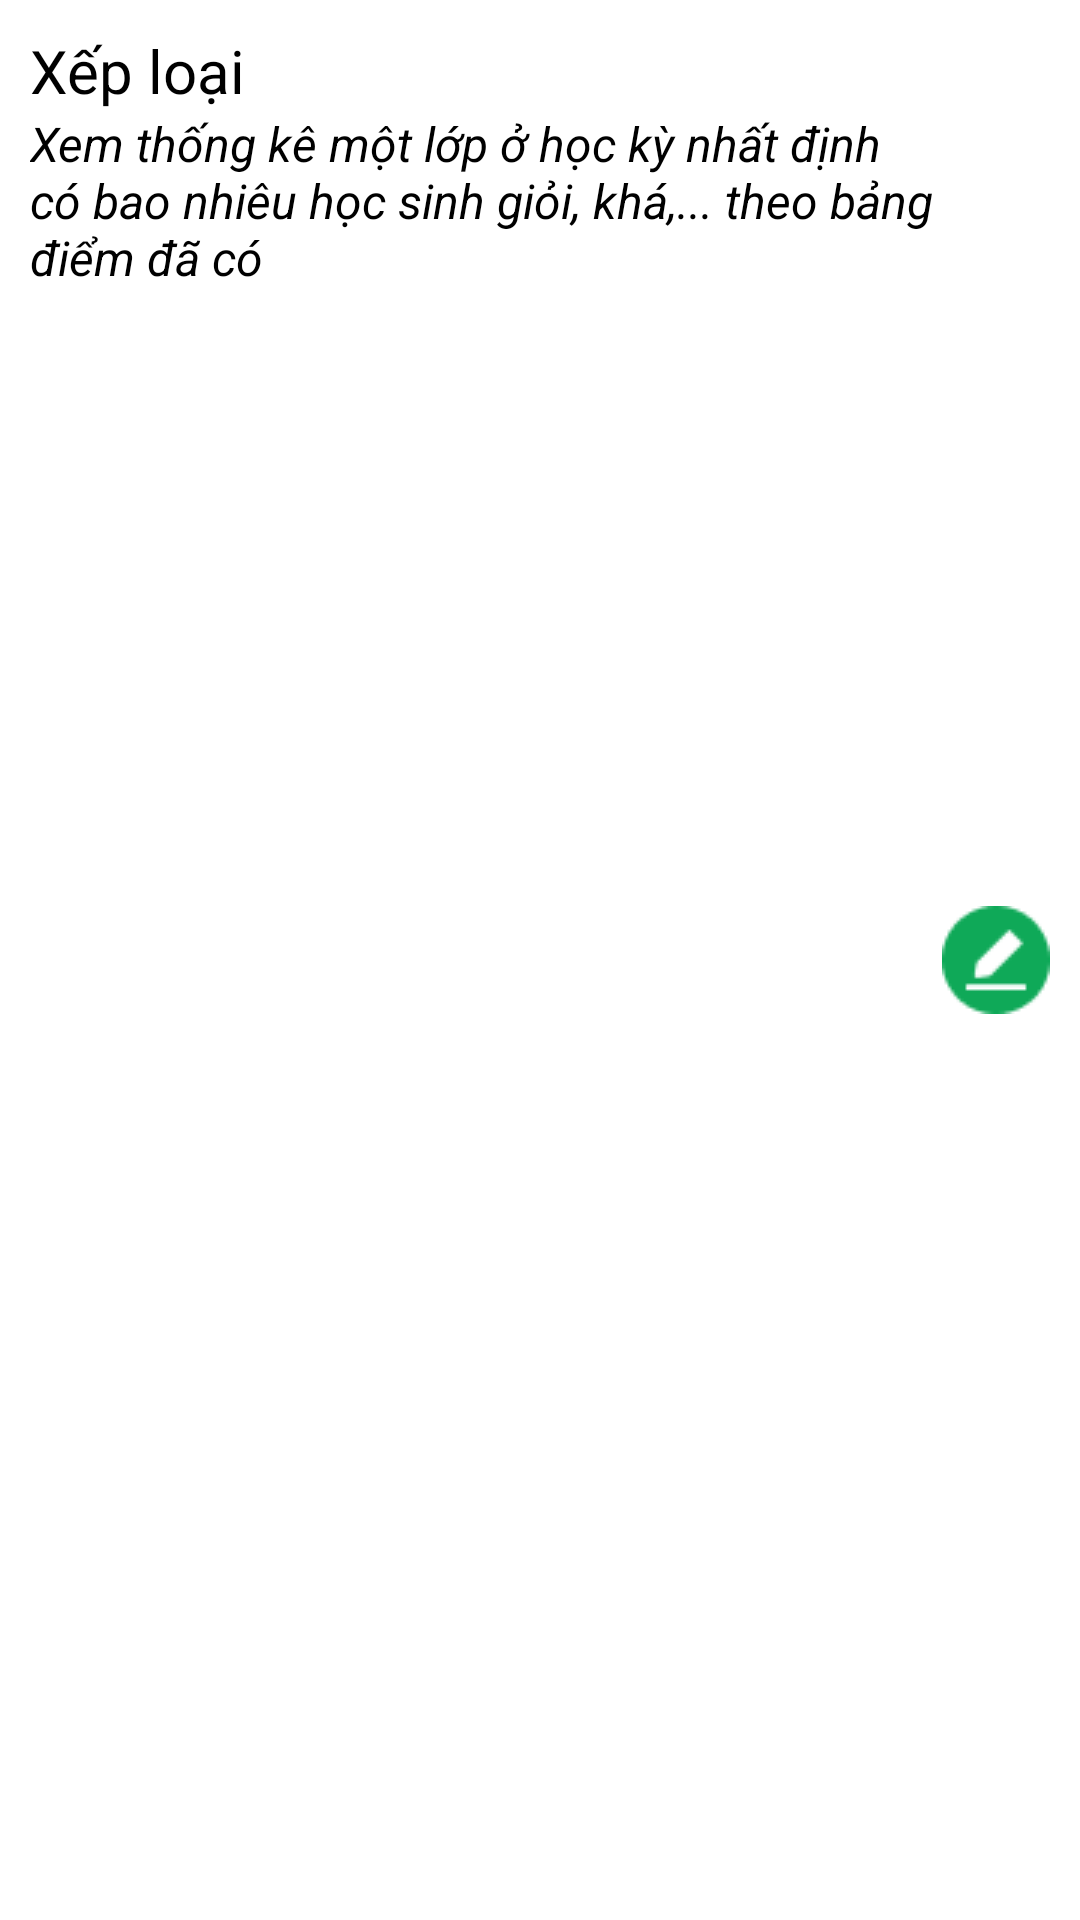

Icons on this 1080 x 1920 Android screen, each with its box as (x1, y1, x2, y2):
edit: (942, 906, 1050, 1014)
